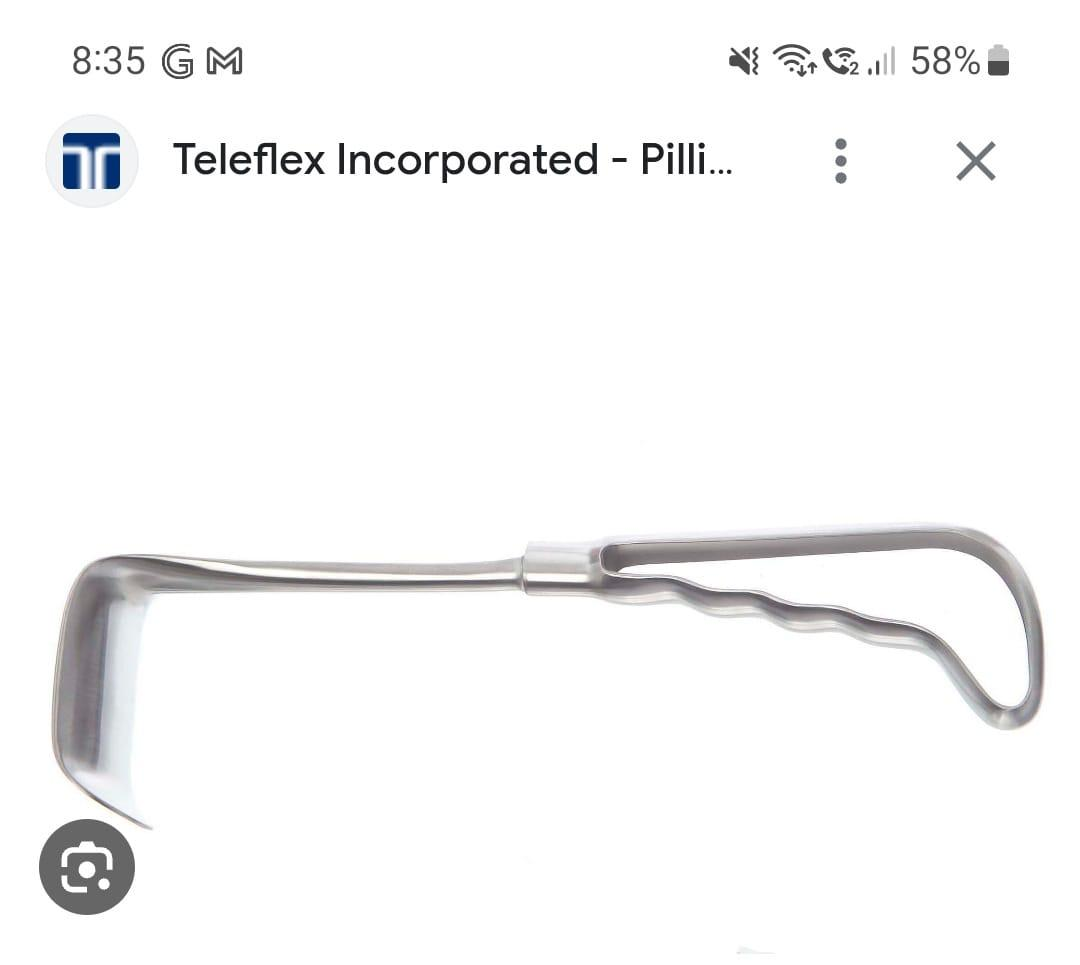Kelly Retractor: (46, 507, 1041, 827)
